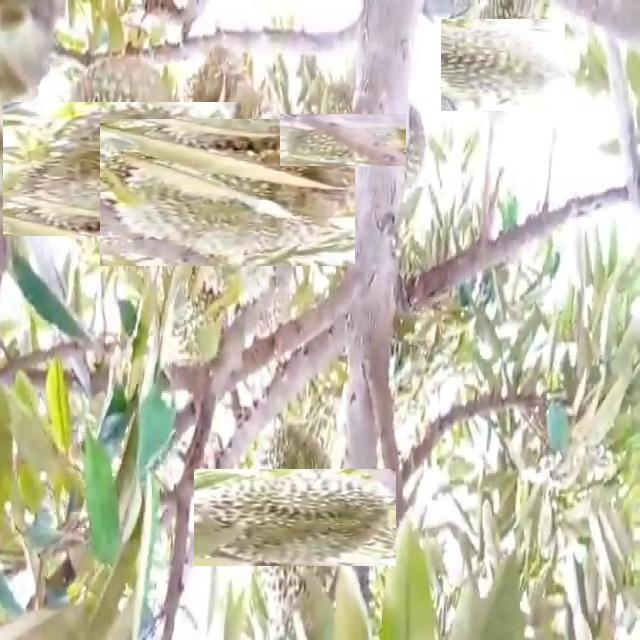durian: (127, 92, 328, 293), (29, 76, 216, 262), (220, 442, 370, 592), (448, 10, 557, 119), (298, 95, 387, 184)
